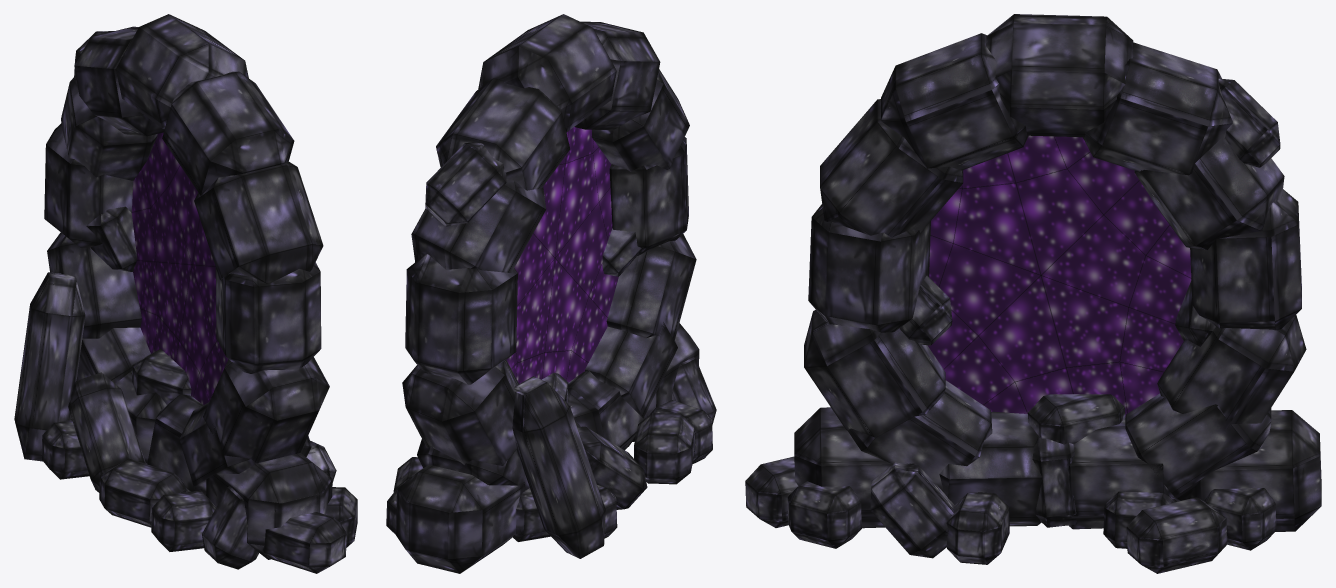
File: portal_7.fbx
The picture shows the model from 3 angles, left to right: view 1: azimuth 30°, elevation 25°; view 2: azimuth 150°, elevation 25°; view 3: azimuth 270°, elevation 25°; orthographic projection. The views are drawn at different scales.
Visible parts, largest first — view 1: pCube1.021, pDisc1; view 2: pCube1.021, pDisc1; view 3: pCube1.021, pDisc1.
Part boxes in pixels (box(x1,y1,x2,y2)): pCube1.021: box(14, 14, 357, 573); pDisc1: box(131, 132, 228, 404); pCube1.021: box(386, 14, 716, 573); pDisc1: box(506, 127, 618, 383); pCube1.021: box(745, 14, 1321, 573); pDisc1: box(927, 135, 1191, 417).
Size of the model in its own units: 1141 by 2383 by 2443.
Materials: 35 (35 with a texture image).
